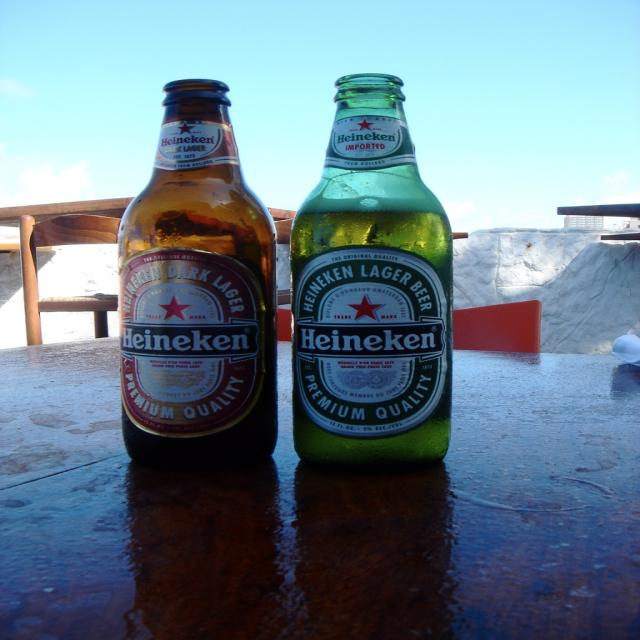heineken: (294, 247, 448, 440), (120, 248, 265, 439)
